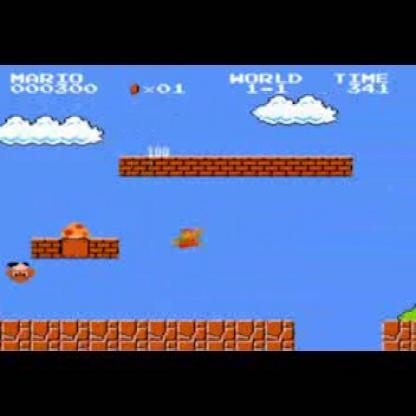Goomba: (6, 259, 36, 287)
Hoyo: (290, 317, 386, 350)
